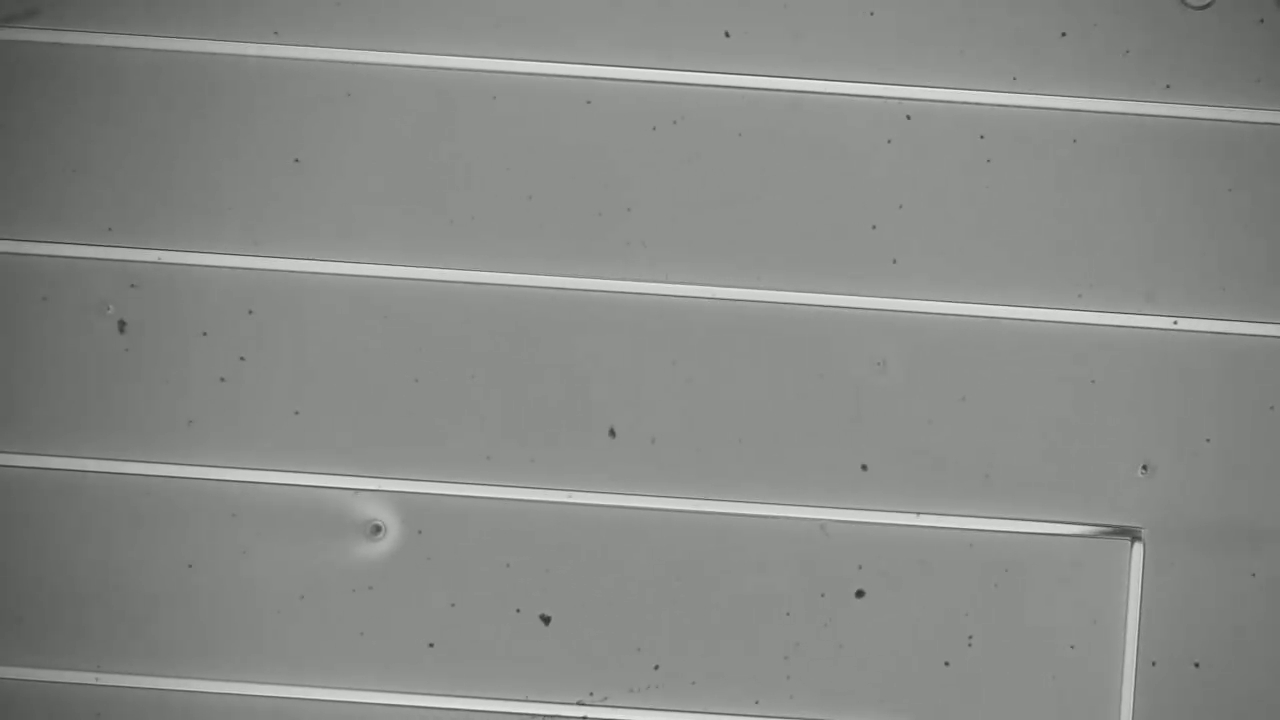gray_line: (1072, 508, 1151, 549)
